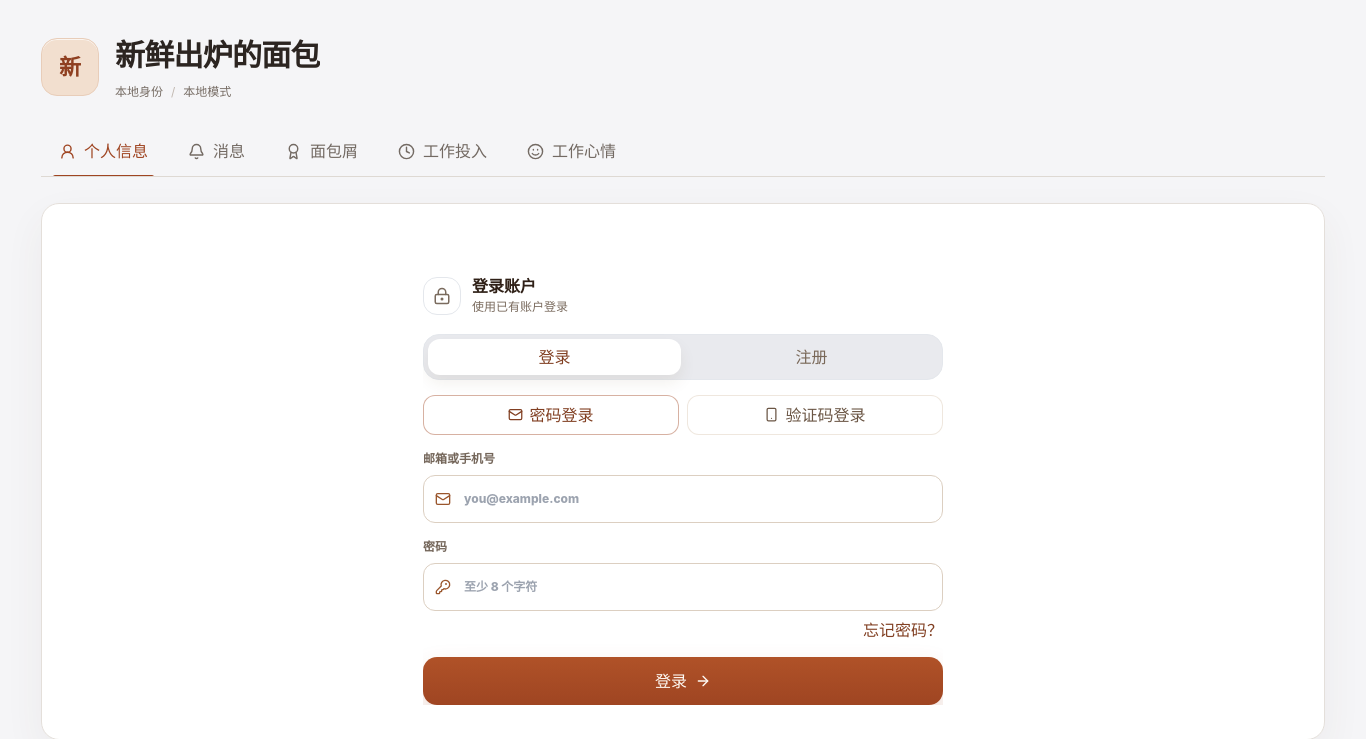
Test: AuthPanel › 注册时按邮箱和手机号区分入口，不再显示独立账户名或灰色提示
Click the tab "注册": (812, 357) [685, 339, 938, 375]
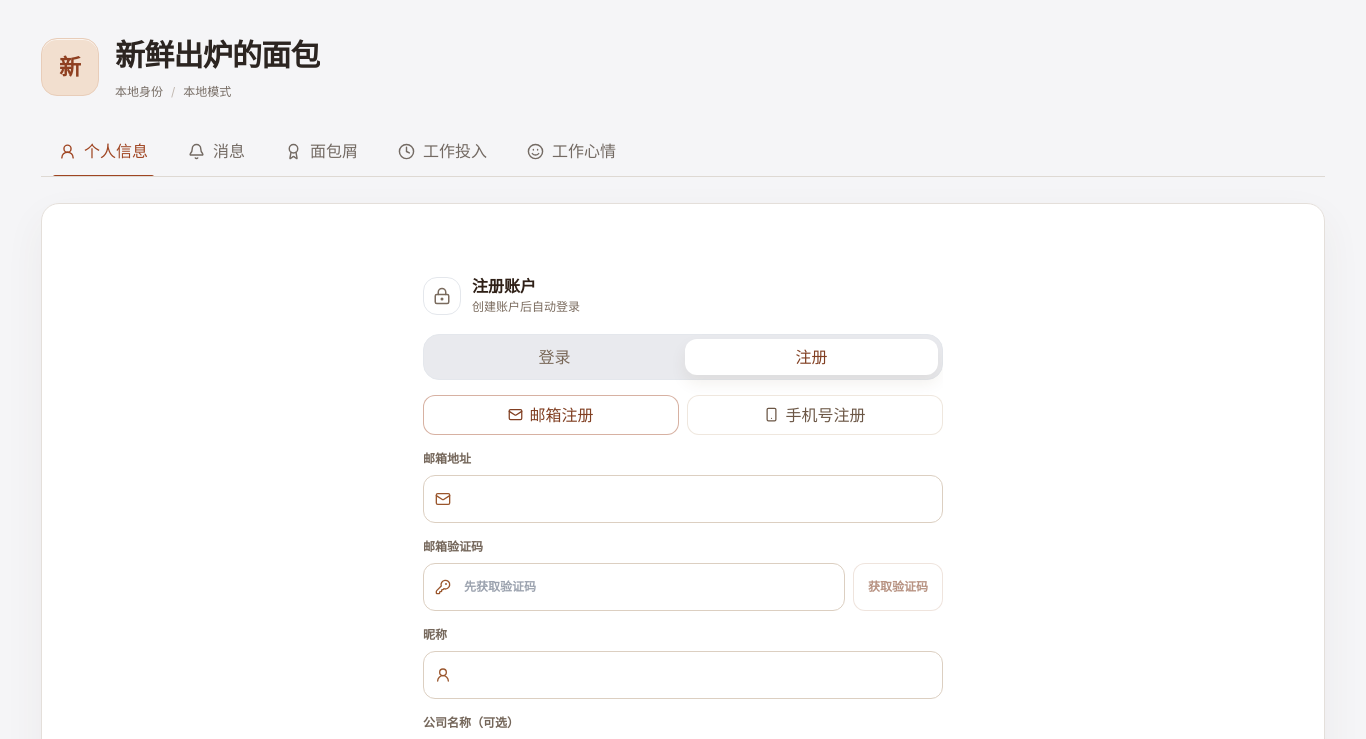
expect the text "注册账户" is shown: met, box [472, 276, 536, 296]
expect the element named "注册方式" is shown: met, box [423, 395, 943, 435]
expect the tab "邮箱注册" is shown: met, box [423, 395, 679, 435]
Click the tab "手机号注册": (815, 415) [687, 395, 943, 435]
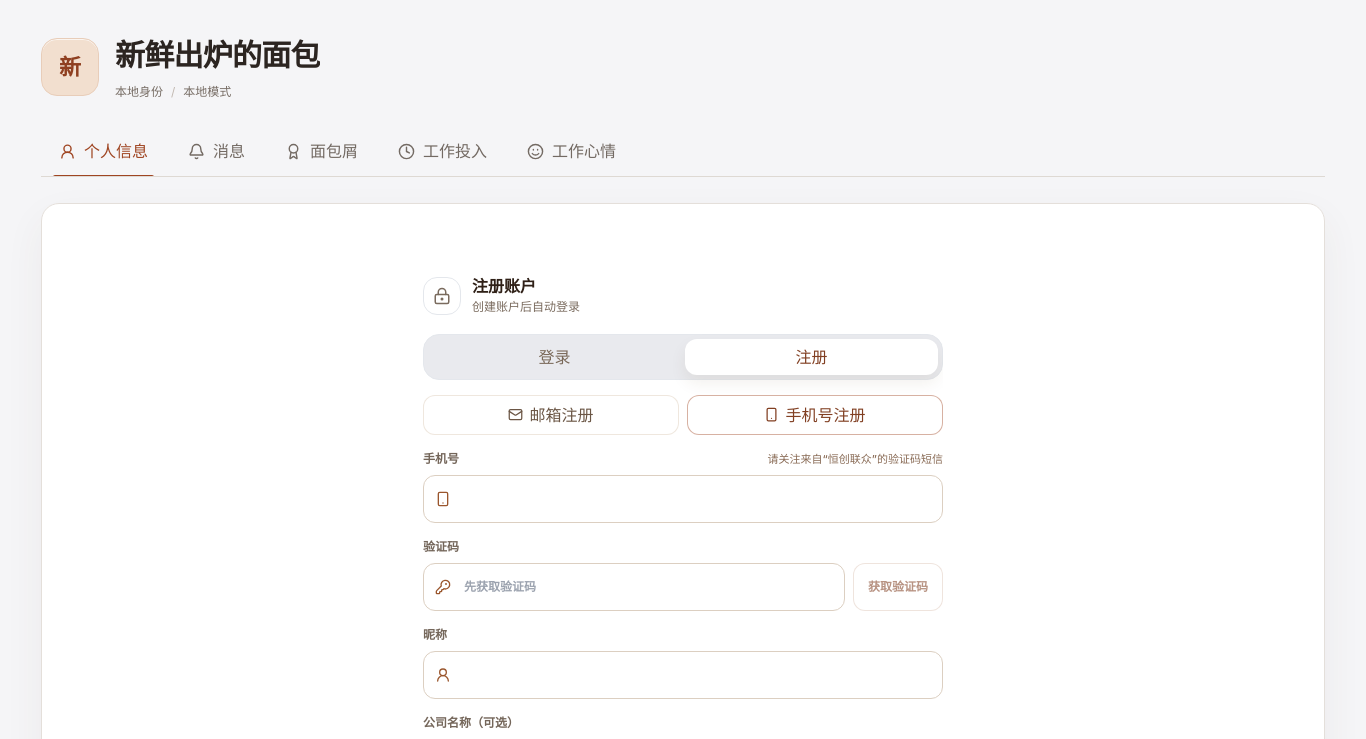
expect the text "请关注来自“恒创联众”的验证码短信" is shown: met, box [768, 451, 943, 467]
